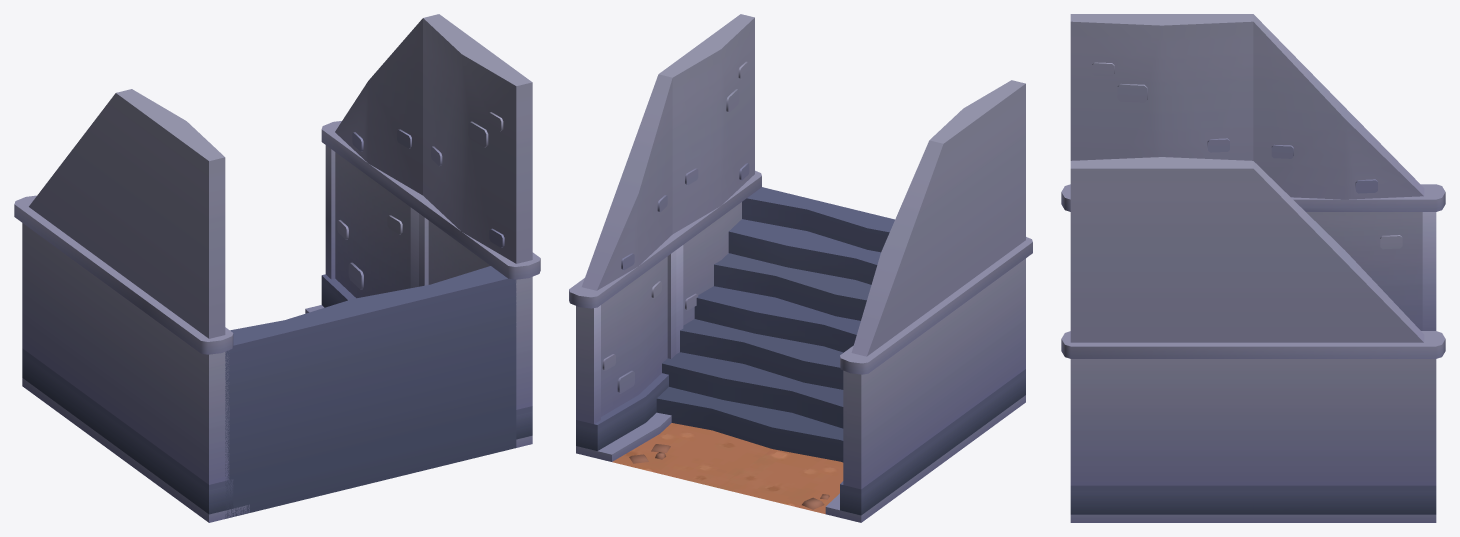
The model's file is kenney-modular-dungeon-stairs-wide.glb.
3 renders of one model, left to right at view 1: azimuth 30°, elevation 25°; view 2: azimuth 150°, elevation 25°; view 3: azimuth 270°, elevation 25°, orthographic. The views are drawn at different scales.
Parts seen in each view (by area): view 1: stairs-wide; view 2: stairs-wide; view 3: stairs-wide.
Part boxes in pixels (left/top/right/bottom): stairs-wide: left=14, top=14, right=540, bottom=522; stairs-wide: left=569, top=14, right=1032, bottom=522; stairs-wide: left=1061, top=14, right=1445, bottom=522.
Size of the model in its own units: 8.4 by 8.55 by 8.4.
1 material, 1 textured.
